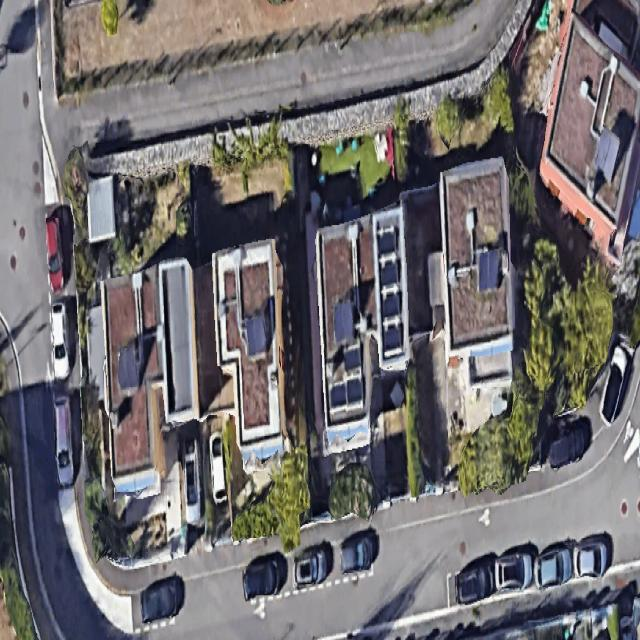immeuble: (85, 255, 235, 501), (524, 6, 640, 266), (314, 205, 411, 455), (203, 240, 290, 470), (436, 156, 514, 355)
